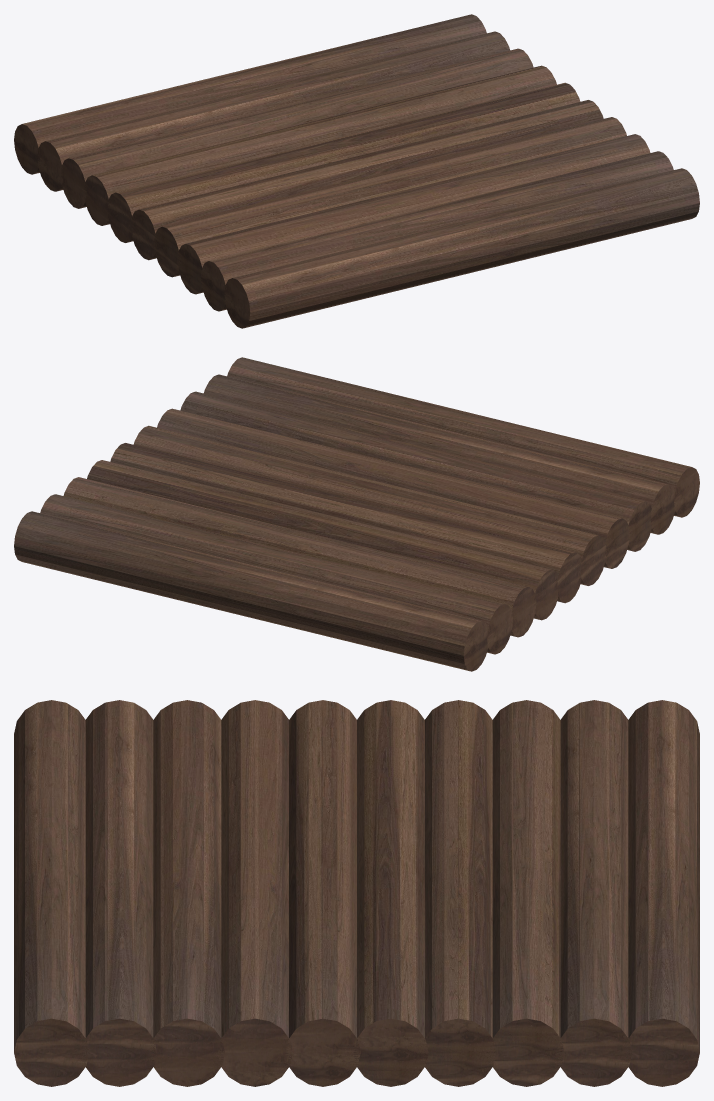
Rendered from wood1031.fbx.
3 renders of one model, top to bottom at view 1: azimuth 30°, elevation 25°; view 2: azimuth 150°, elevation 25°; view 3: azimuth 270°, elevation 25°, orthographic. The views are drawn at different scales.
Visible parts, largest first — view 1: wood.001; view 2: wood.001; view 3: wood.001.
Boxes of the visible parts, left/top/right/bottom form: wood.001: left=14, top=14, right=699, bottom=328; wood.001: left=14, top=357, right=699, bottom=671; wood.001: left=14, top=700, right=699, bottom=1086.
Size of the model in its own units: 100 by 1000 by 910.
